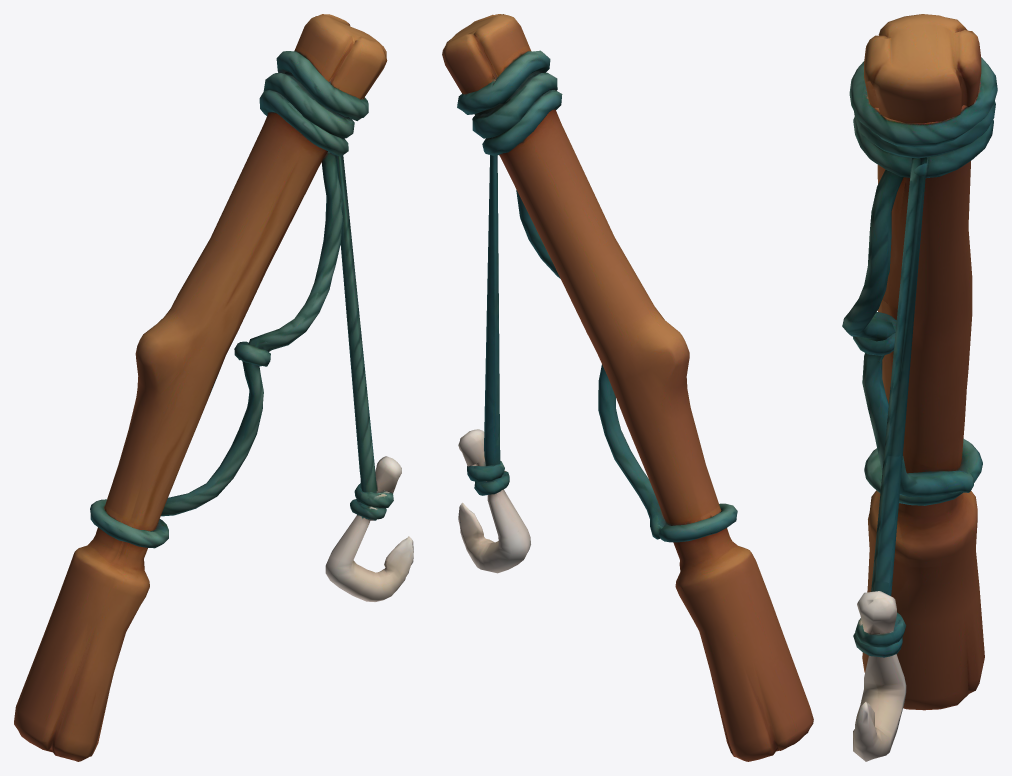
The model's file is vine-fishing-rod.glb.
3 views of the same model, side by side, from view 1: azimuth 30°, elevation 25°; view 2: azimuth 150°, elevation 25°; view 3: azimuth 270°, elevation 25° (orthographic). The views are drawn at different scales.
Visible parts, largest first — view 1: Vine Fishing Rod; view 2: Vine Fishing Rod; view 3: Vine Fishing Rod.
Boxes of the visible parts, x1,y1,x2,y2 form: Vine Fishing Rod: (14,14,413,761); Vine Fishing Rod: (442,14,813,761); Vine Fishing Rod: (842,14,997,761).
Bounding box in the file's own units: 0.5762 × 0.998 × 0.166.
Materials: 1 (1 with a texture image).
